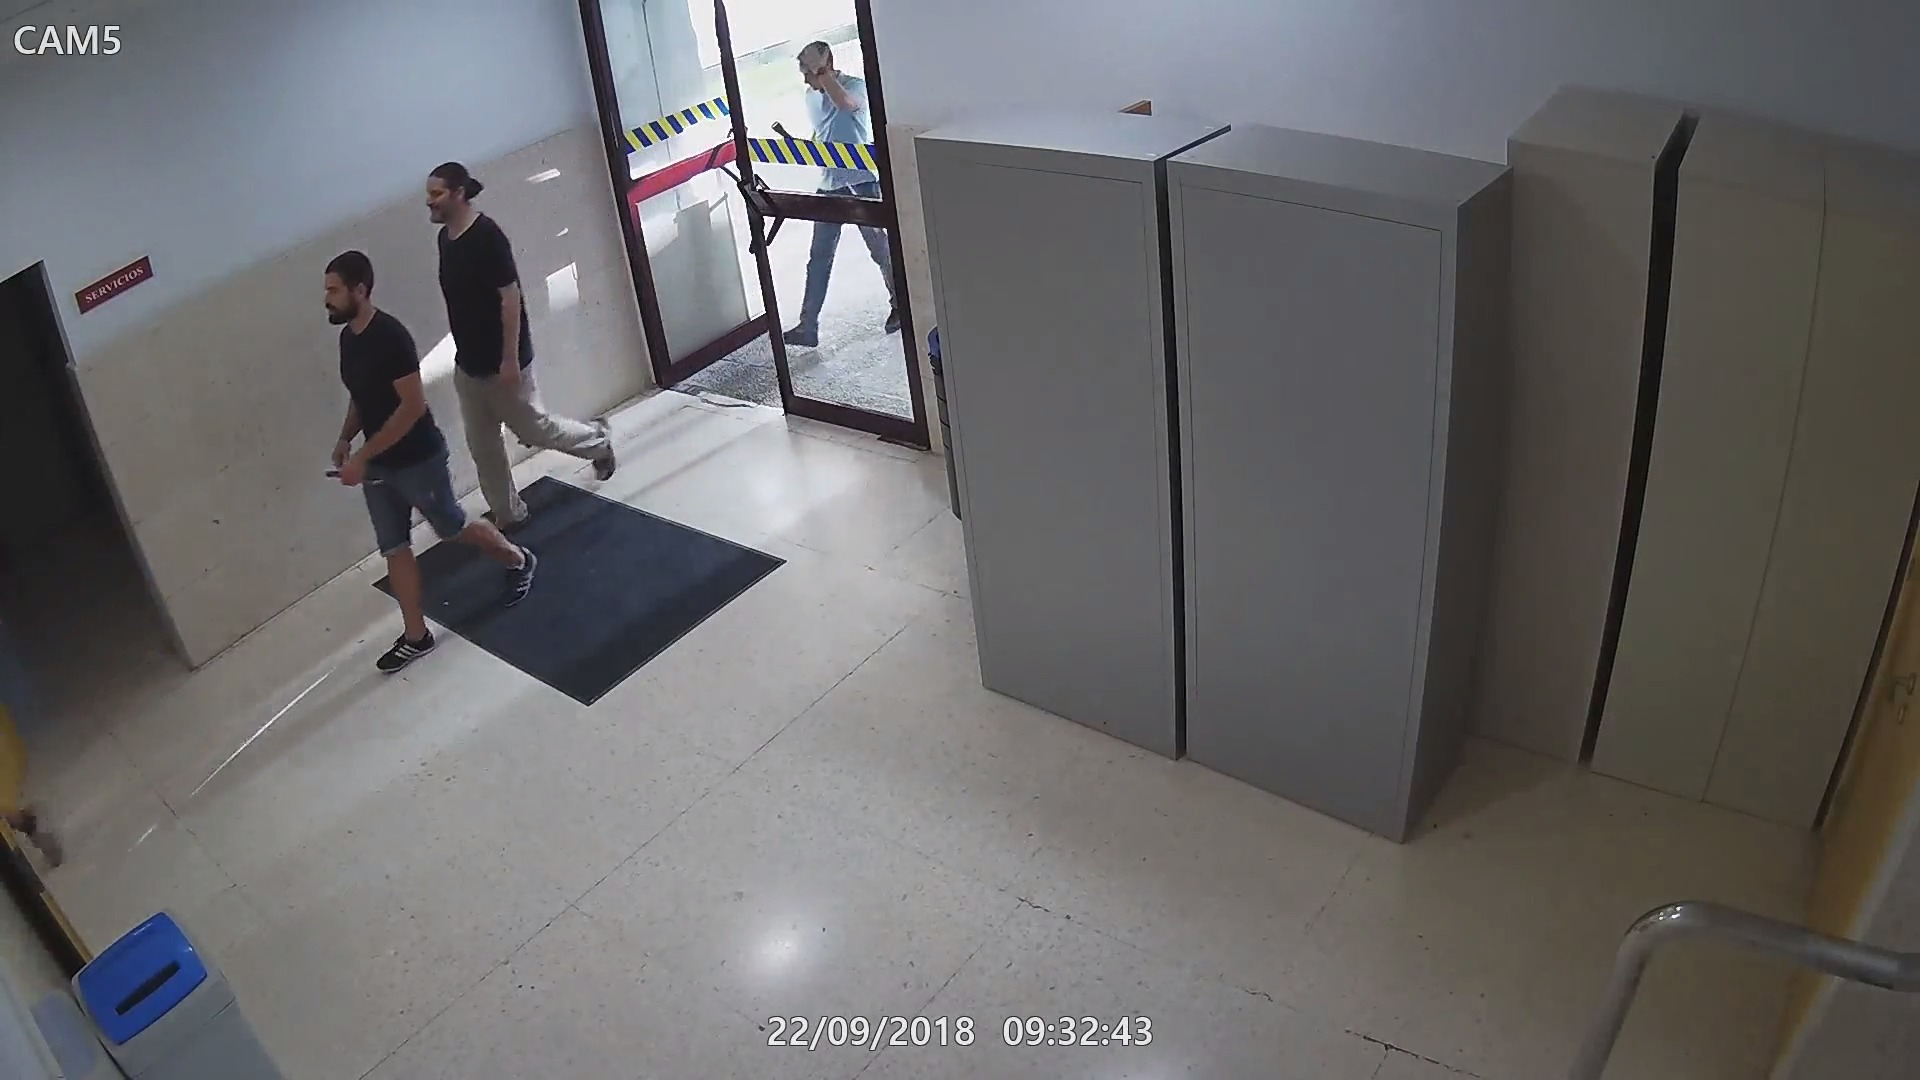Handgun: (320, 463, 390, 491)
